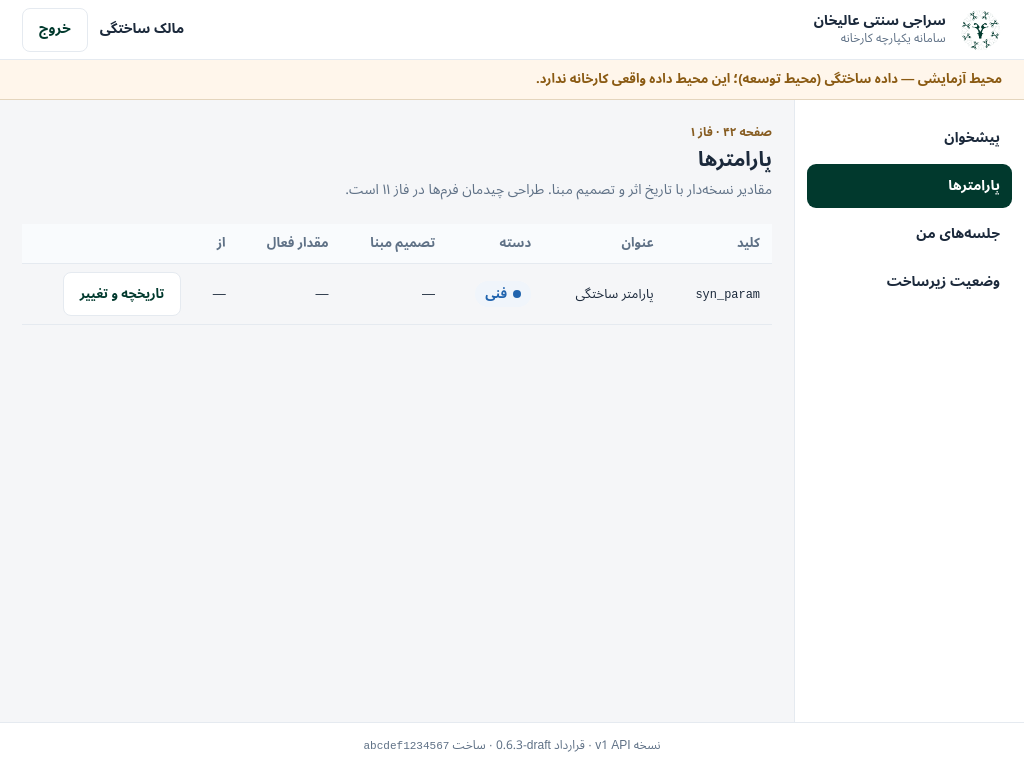
Test case: page 42: publish button follows the server rule (DEC-056 v1.2) › the owner sees no publish button on a TECHNICAL value (the server answers 403)
Click the button with test id "param-open-syn_param" at (122, 294), box [63,272,181,316]
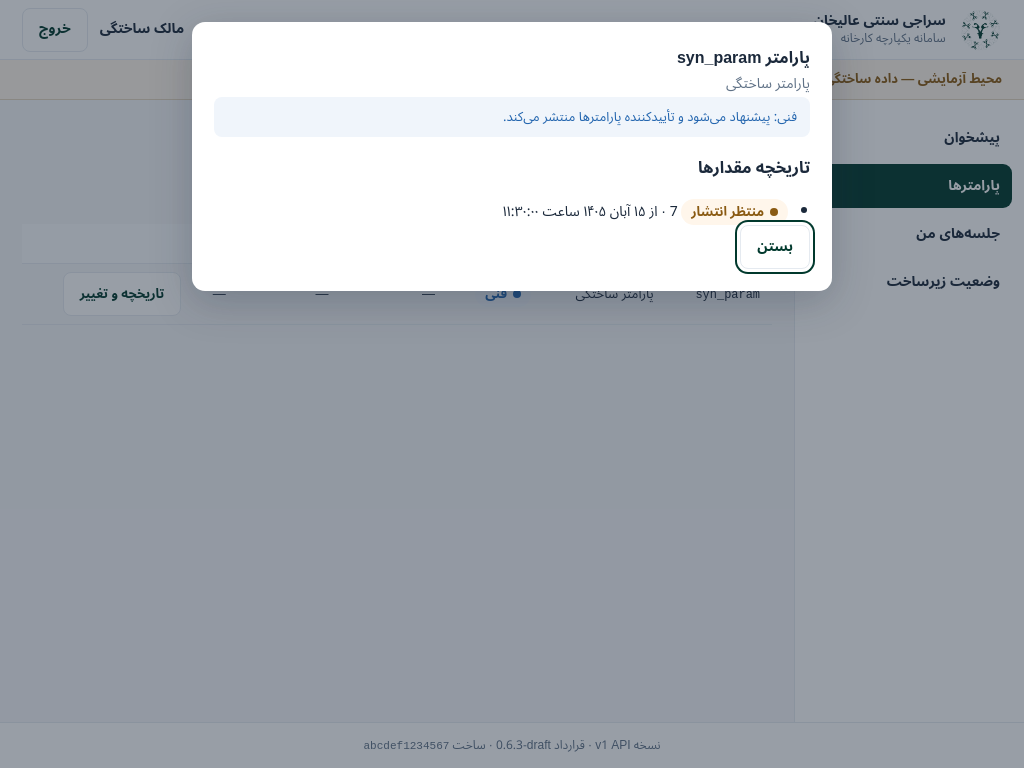
Expected: the list with test id "param-values" is shown, [503,197,788,226]
Expected: the text "فنی: پیشنهاد می‌شود و تأییدکننده پارامترها منتشر می‌کند." is shown, [214,96,810,137]
